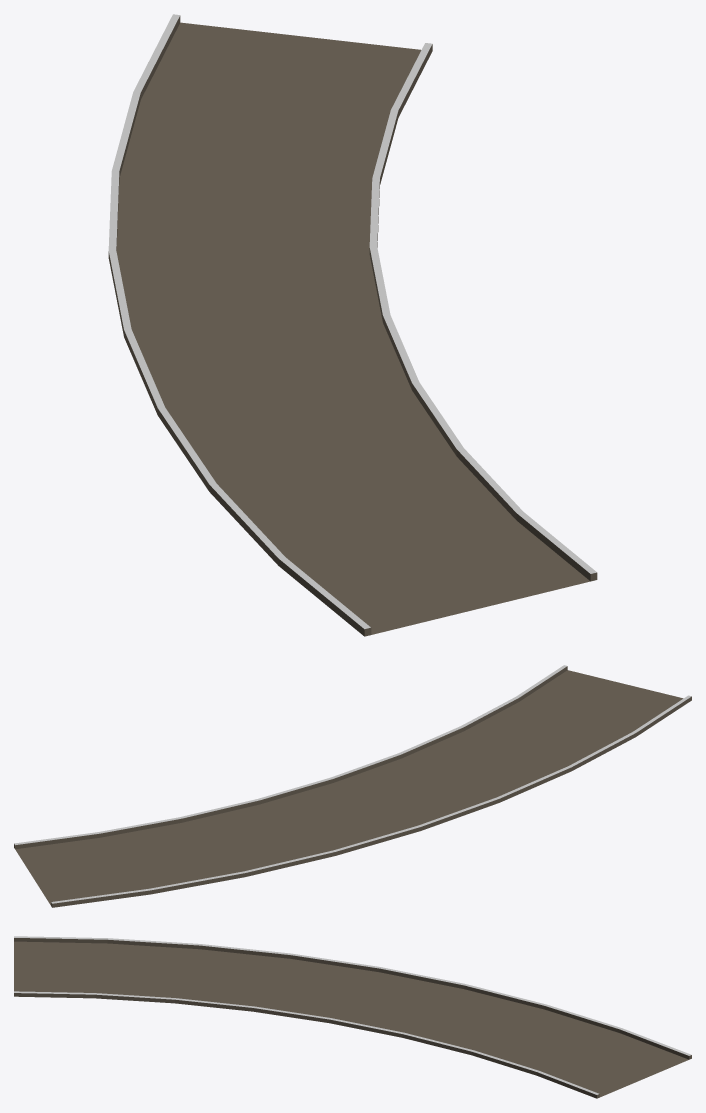
File: l-45.edge.fbx
3 views of the same model, one above another, from view 1: azimuth 30°, elevation 25°; view 2: azimuth 150°, elevation 25°; view 3: azimuth 270°, elevation 25° (orthographic). The views are drawn at different scales.
Visible parts, largest first — view 1: l-45.edge; view 2: l-45.edge; view 3: l-45.edge.
Boxes of the visible parts, box(x1,y1,x2,y2) form: l-45.edge: box(108, 14, 597, 636); l-45.edge: box(14, 665, 691, 907); l-45.edge: box(14, 936, 691, 1098).
Bounding box in the file's own units: 6860 × 75 × 12374.
